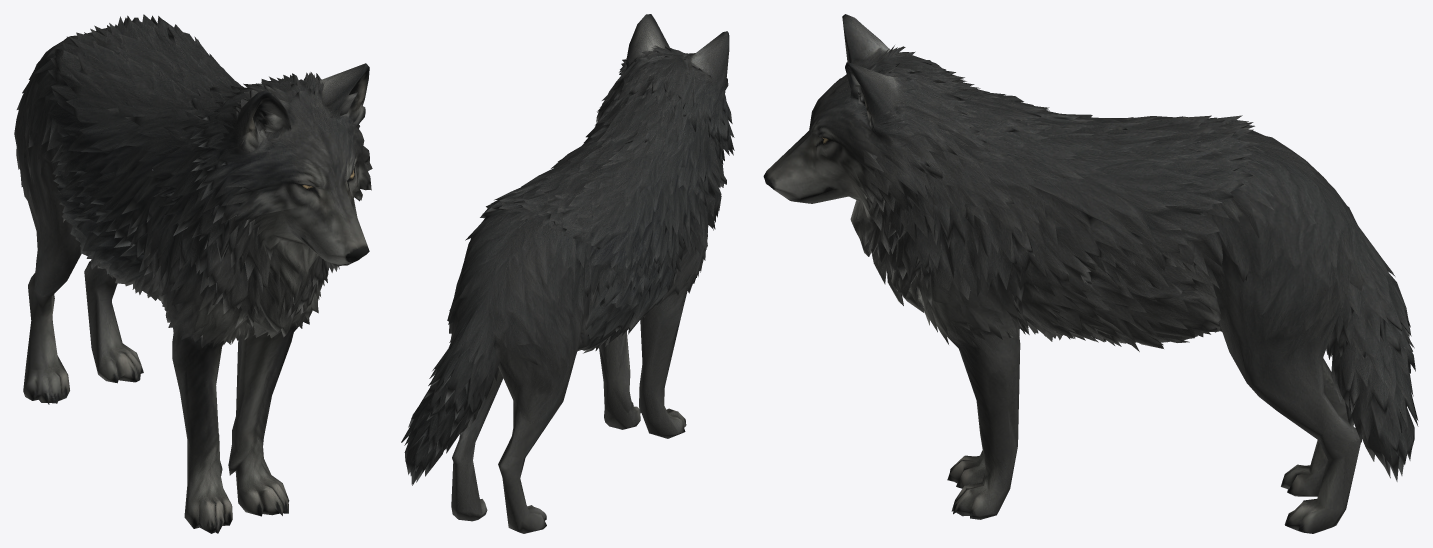
The model's file is Mascot_Wolf.glb.
The picture shows the model from 3 angles, left to right: view 1: azimuth 30°, elevation 25°; view 2: azimuth 150°, elevation 25°; view 3: azimuth 270°, elevation 25°; orthographic projection. The views are drawn at different scales.
Parts seen in each view (by area): view 1: Mesh_0; view 2: Mesh_0; view 3: Mesh_0.
Boxes of the visible parts, x1=… form: Mesh_0: x1=14, y1=14, x2=372, y2=533; Mesh_0: x1=401, y1=14, x2=734, y2=533; Mesh_0: x1=763, y1=14, x2=1418, y2=533.
Size of the model in its own units: 0.5968 by 1.49 by 1.9.
1 material, 1 textured.
